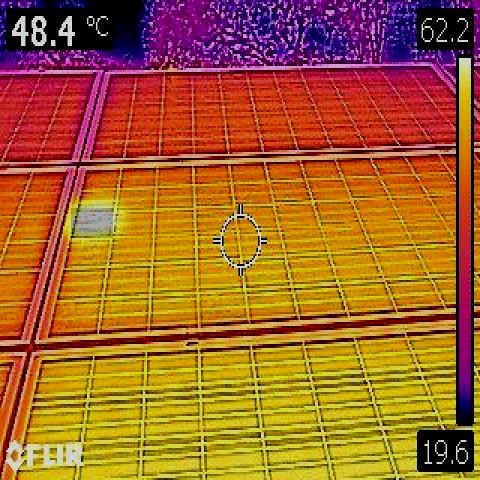fault: (71, 208, 113, 238)
